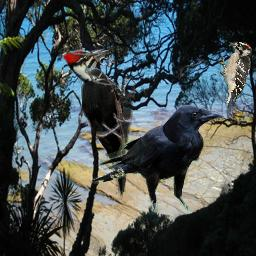Crow: (90, 105, 226, 212)
Woodpecker: (62, 46, 135, 204), (218, 42, 253, 113)
